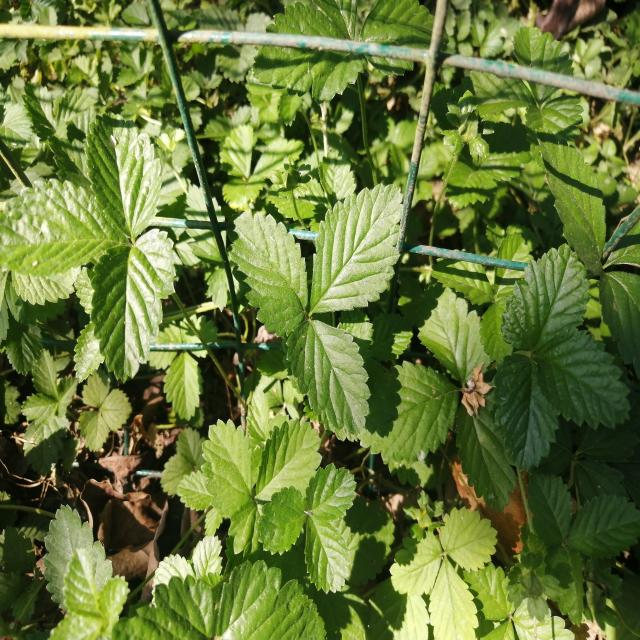Mock_strawberry: (406, 268, 626, 514), (2, 115, 206, 373), (227, 190, 415, 433), (171, 409, 371, 585)
